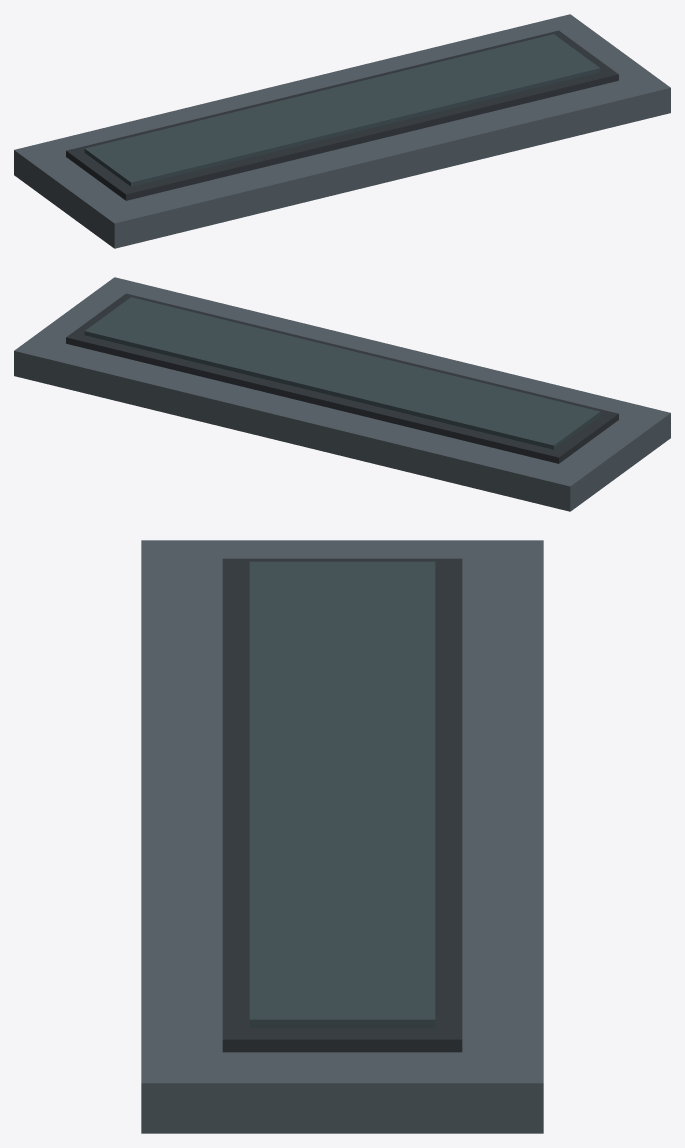
Rendered from 15_top_lid.glb.
3 renders of one model, top to bottom at view 1: azimuth 30°, elevation 25°; view 2: azimuth 150°, elevation 25°; view 3: azimuth 270°, elevation 25°, orthographic. The views are drawn at different scales.
Parts seen in each view (by area): view 1: 15_top_lid_0, 15_top_lid_2, 15_top_lid_1; view 2: 15_top_lid_0, 15_top_lid_2, 15_top_lid_1; view 3: 15_top_lid_0, 15_top_lid_2, 15_top_lid_1.
Boxes of the visible parts, x1,y1,x2,y2 form: 15_top_lid_0: (14, 14, 670, 248); 15_top_lid_2: (84, 34, 600, 186); 15_top_lid_1: (66, 30, 618, 200); 15_top_lid_0: (14, 277, 670, 511); 15_top_lid_2: (84, 297, 600, 449); 15_top_lid_1: (66, 293, 618, 463); 15_top_lid_0: (141, 540, 543, 1133); 15_top_lid_2: (249, 561, 435, 1027); 15_top_lid_1: (222, 558, 462, 1052).
Size of the model in its own units: 830 by 51 by 260.
